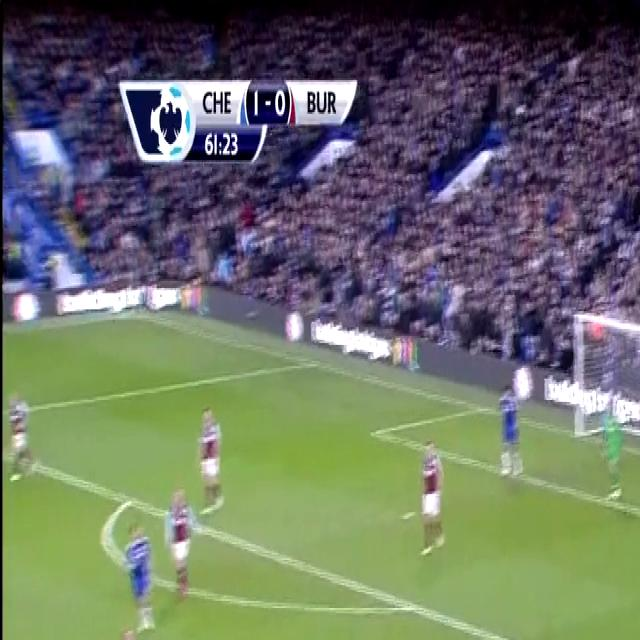goalkeeper: (597, 395, 634, 515)
soccer-player: (409, 423, 452, 564), (166, 476, 203, 616), (188, 390, 226, 521), (121, 508, 160, 634), (492, 368, 527, 488), (5, 376, 38, 488), (107, 617, 153, 640)
